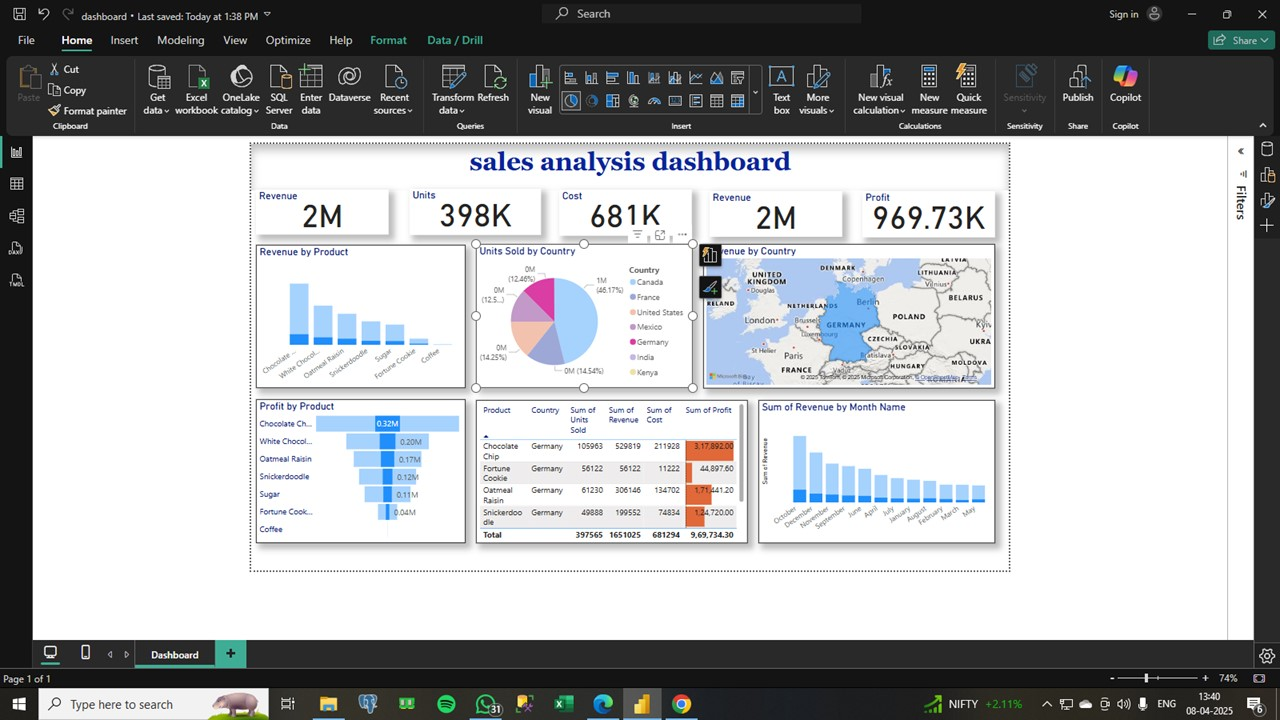

Layout of this report page (visuals, bound fields, positions):
{"tool":"powerbi","page":{"name":"Dashboard","canvas":[1280,720],"ordinal":0},"visuals":[{"type":"textbox","box":[0,0,1280,78.1],"z":0},{"type":"card","title":"Revenue","fields":{"Values":["Sum(sales data.Revenue)"]},"box":[7.5,77.6,223.9,76.1],"z":1000},{"type":"card","title":"Units","fields":{"Values":["Sum(sales data.Units Sold)"]},"box":[267.2,76.1,222.4,77.6],"z":2000},{"type":"card","title":"Cost","fields":{"Values":["Sum(sales data.Cost)"]},"box":[520.9,77.6,223.9,77.6],"z":3000},{"type":"card","title":"Revenue","fields":{"Values":["Sum(sales data.Revenue)"]},"box":[774.3,79.7,224.3,77],"z":4000},{"type":"card","title":"Profit","fields":{"Values":["Sum(sales data.Profit)"]},"box":[1032.8,79.1,223.9,77.6],"z":5000},{"type":"columnChart","title":"Revenue by Product","fields":{"Y":["Sum(sales data.Revenue)"],"Category":["sales data.Product"]},"box":[8.1,170.2,354.2,241.9],"z":6000},{"type":"pieChart","title":"Units Sold by Country","fields":{"Y":["Sum(sales data.Units Sold)"],"Category":["sales data.Country"]},"box":[379.7,169,365.8,243.1],"z":7000},{"type":"filledMap","title":"Revenue by Country","fields":{"Category":["sales data.Country"]},"box":[764,168.4,493.1,243.9],"z":8000},{"type":"funnel","title":"Profit by Product","fields":{"Category":["sales data.Product"],"Y":["Sum(sales data.Profit)"]},"box":[8,431,354,242.5],"z":9000},{"type":"tableEx","fields":{"Values":["sales data.Product","sales data.Country","Sum(sales data.Units Sold)","Sum(sales data.Revenue)","Sum(sales data.Cost)","Sum(sales data.Profit)"]},"box":[379.1,431.8,459.1,241.8],"z":10000},{"type":"columnChart","fields":{"Category":["sales data.Month Name"],"Y":["Sum(sales data.Revenue)"]},"box":[856.8,432.1,400,242],"z":10001}]}

Visuals, with their boxes on the page's 1280x720 design canvas (x1, y1, x2, y2). These are canvas units, not pixel positions in the 1280x720 screenshot, which may show the page scaled, cropped or inside an application window:
textbox: <box>0,0,1280,78</box>
"Revenue" card: <box>8,78,231,154</box>
"Units" card: <box>267,76,490,154</box>
"Cost" card: <box>521,78,745,155</box>
"Revenue" card: <box>774,80,999,157</box>
"Profit" card: <box>1033,79,1257,157</box>
"Revenue by Product" columnChart: <box>8,170,362,412</box>
"Units Sold by Country" pieChart: <box>380,169,746,412</box>
"Revenue by Country" filledMap: <box>764,168,1257,412</box>
"Profit by Product" funnel: <box>8,431,362,674</box>
tableEx - sales data.Product x sales data.Country: <box>379,432,838,674</box>
columnChart - sales data.Month Name x Sum(sales data.Revenue): <box>857,432,1257,674</box>
